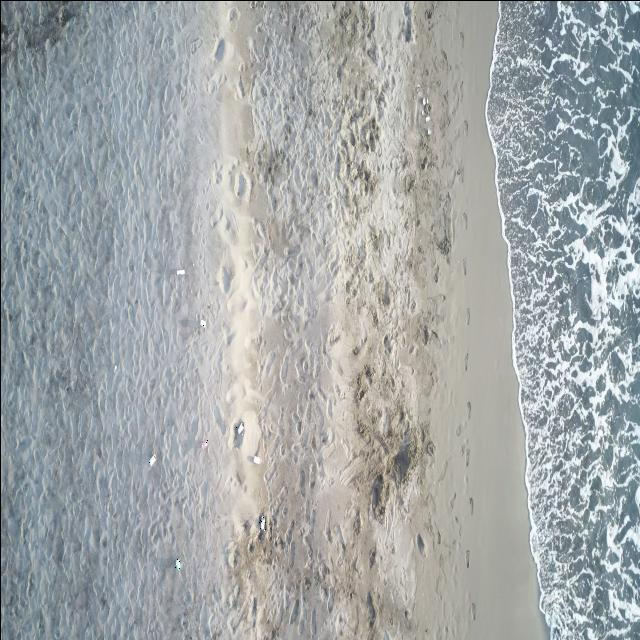Garbage: (232, 420, 243, 447), (148, 452, 156, 466), (247, 455, 259, 464), (259, 513, 264, 531), (200, 439, 207, 448), (175, 557, 180, 569), (176, 268, 183, 275), (200, 319, 206, 327)
